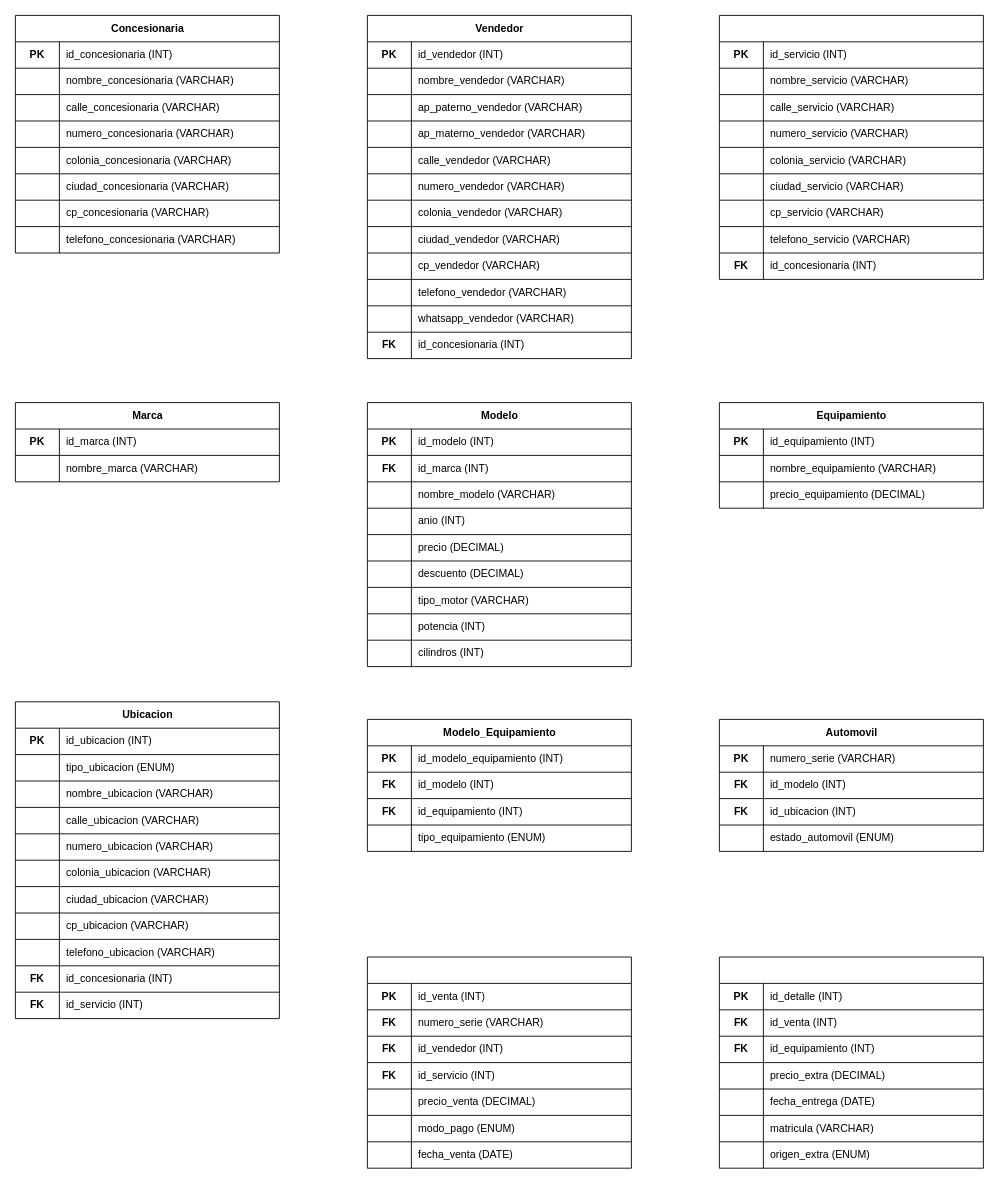
Some shapes in this 999 by 1184 pixel diagram are drawn without their labels. The box of each missing label's shape, as (x1, y1, x2, y2) in pixels:
Detalle_Venta: (719, 956, 983, 1168)
Servicio_Oficial: (719, 15, 983, 279)
Ventas_Acumuladas: (367, 956, 631, 1168)
